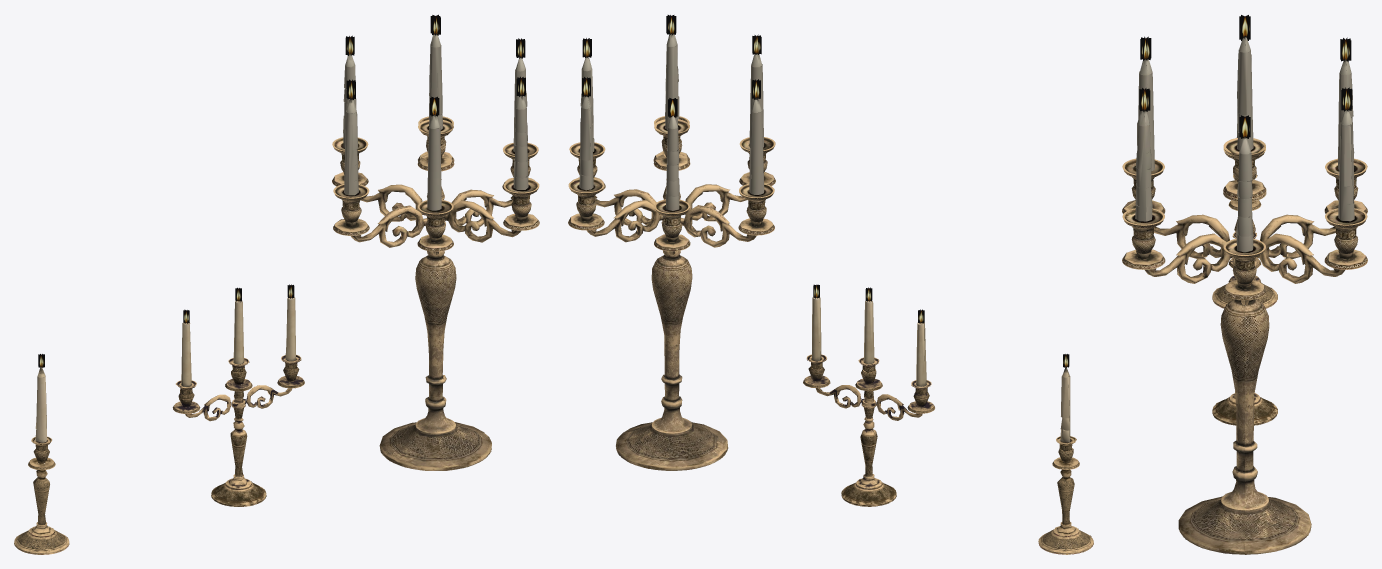
Rendered from brass_candleholders.glb.
3 renders of one model, left to right at view 1: azimuth 30°, elevation 25°; view 2: azimuth 150°, elevation 25°; view 3: azimuth 270°, elevation 25°, orthographic. The views are drawn at different scales.
Parts seen in each view (by area): view 1: brass_candleholder_03, brass_candleholder_02, brass_candleholder_01; view 2: brass_candleholder_03, brass_candleholder_02, brass_candleholder_01; view 3: brass_candleholder_03, brass_candleholder_02, brass_candleholder_01.
Boxes of the visible parts, <box> form: brass_candleholder_03: <box>332,14,539,470</box>; brass_candleholder_02: <box>172,284,304,506</box>; brass_candleholder_01: <box>14,354,69,554</box>; brass_candleholder_03: <box>568,15,775,470</box>; brass_candleholder_02: <box>803,284,934,506</box>; brass_candleholder_01: <box>1038,354,1093,554</box>; brass_candleholder_03: <box>1122,15,1367,554</box>; brass_candleholder_02: <box>1212,232,1277,425</box>; brass_candleholder_01: <box>1212,174,1277,308</box>.
Size of the model in its own units: 1.05 by 0.8353 by 0.3647.
5 materials, 5 textured.
